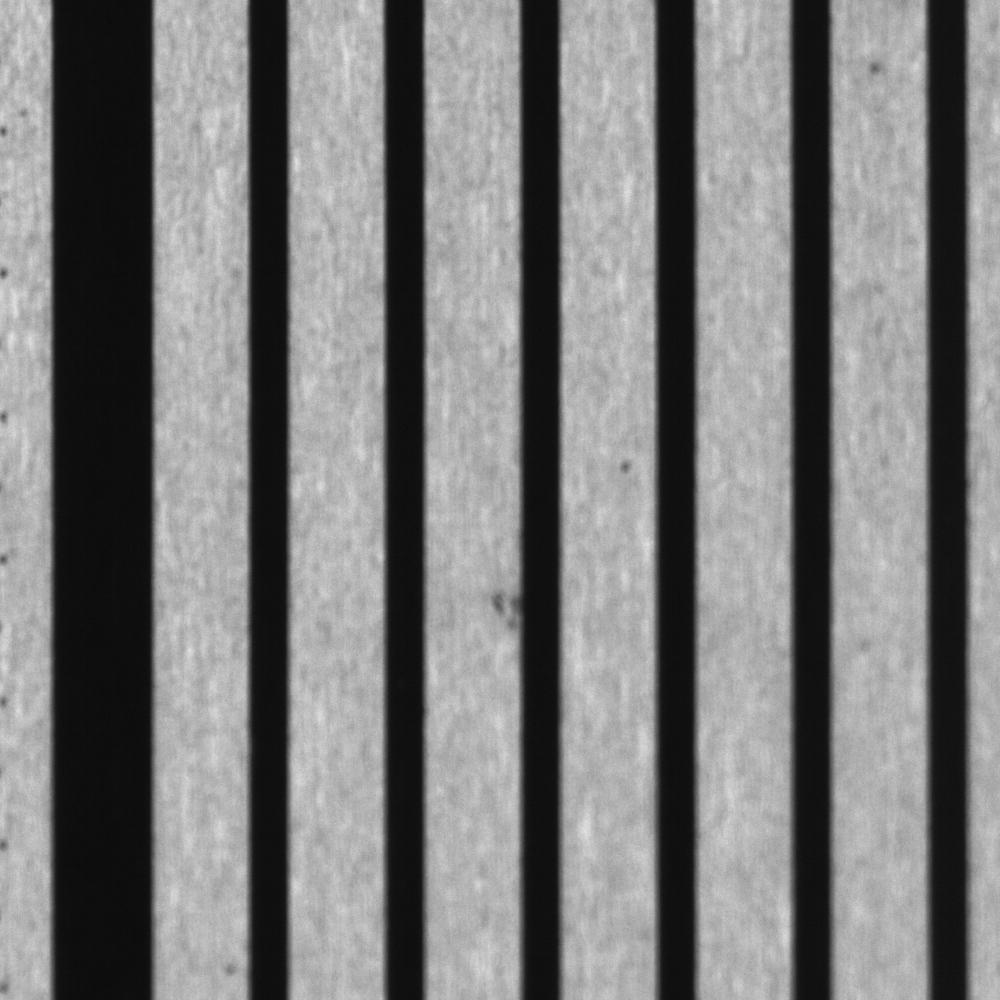Etching: (478, 563, 525, 651), (605, 438, 645, 491)
Pinhole: (855, 43, 898, 91)
